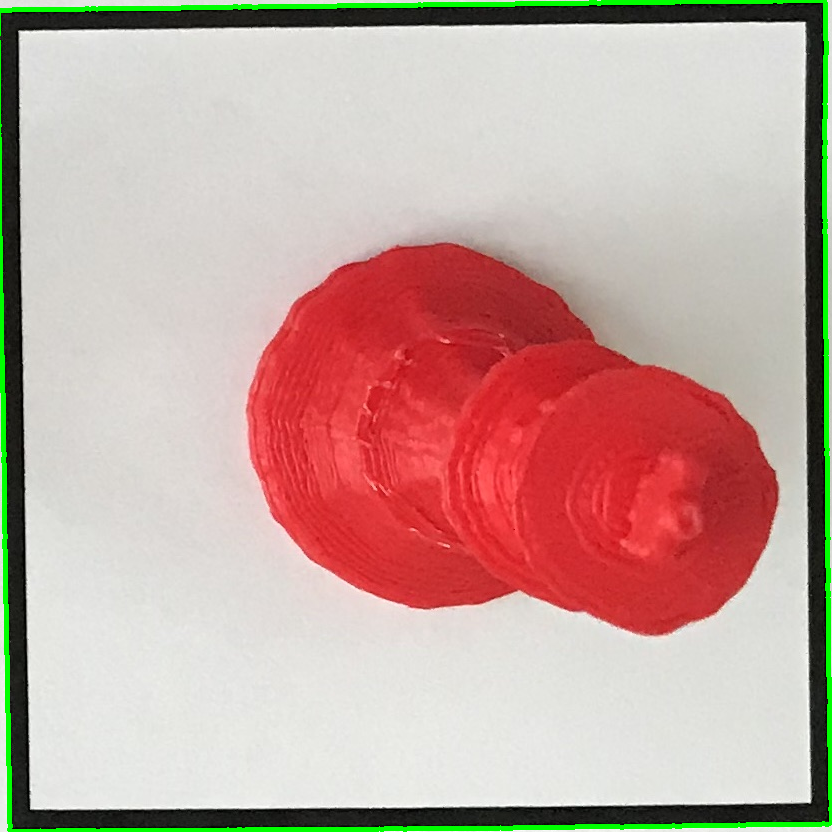Red King: (221, 226, 796, 698)
